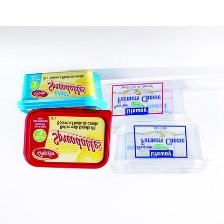plastic_box: (102, 116, 212, 183), (18, 104, 116, 175), (11, 65, 113, 121), (101, 75, 194, 132)
